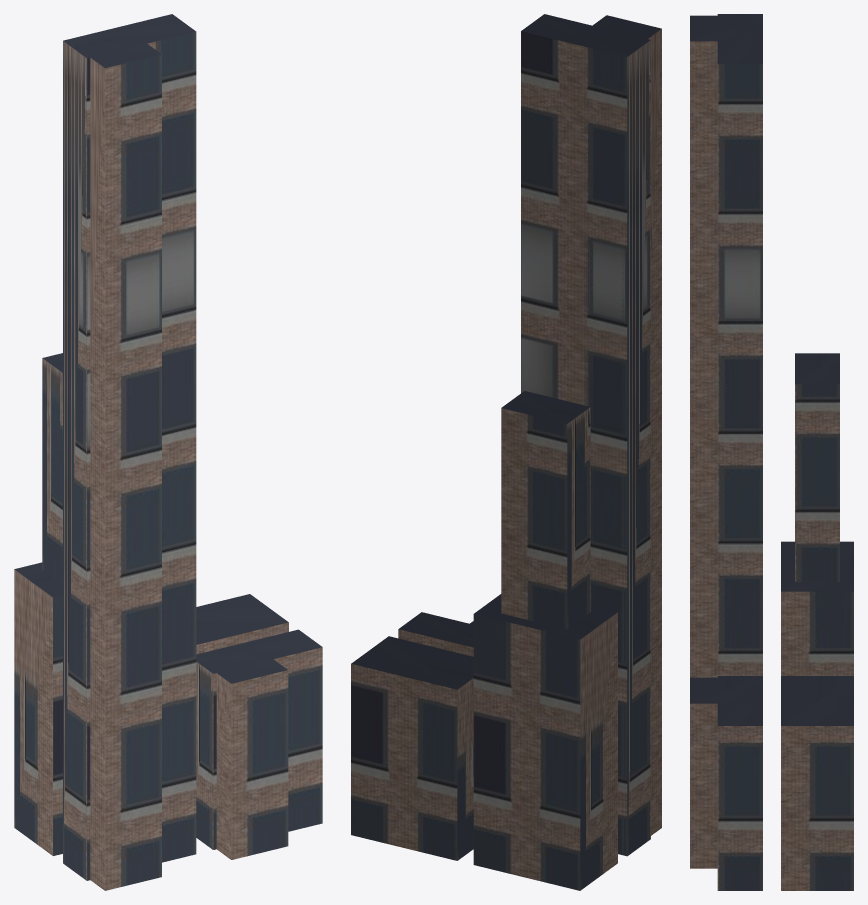
Rendered from city_block_12345_6_17.glb.
The picture shows the model from 3 angles, left to right: view 1: azimuth 30°, elevation 25°; view 2: azimuth 150°, elevation 25°; view 3: azimuth 270°, elevation 25°; orthographic projection. The views are drawn at different scales.
Visible parts, largest first — view 1: block_17; view 2: block_17; view 3: block_17.
Part boxes in pixels (<box>): block_17: <box>14,14,322,890</box>; block_17: <box>351,14,661,890</box>; block_17: <box>690,14,853,890</box>.
Bounding box in the file's own units: 4.2 × 14 × 2.7.
4 materials, 4 textured.
